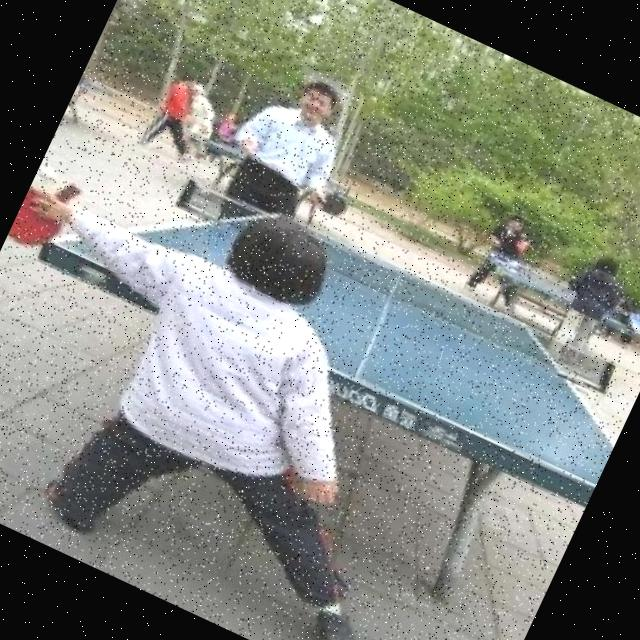ping-pong-ball: (32, 156, 62, 188)
